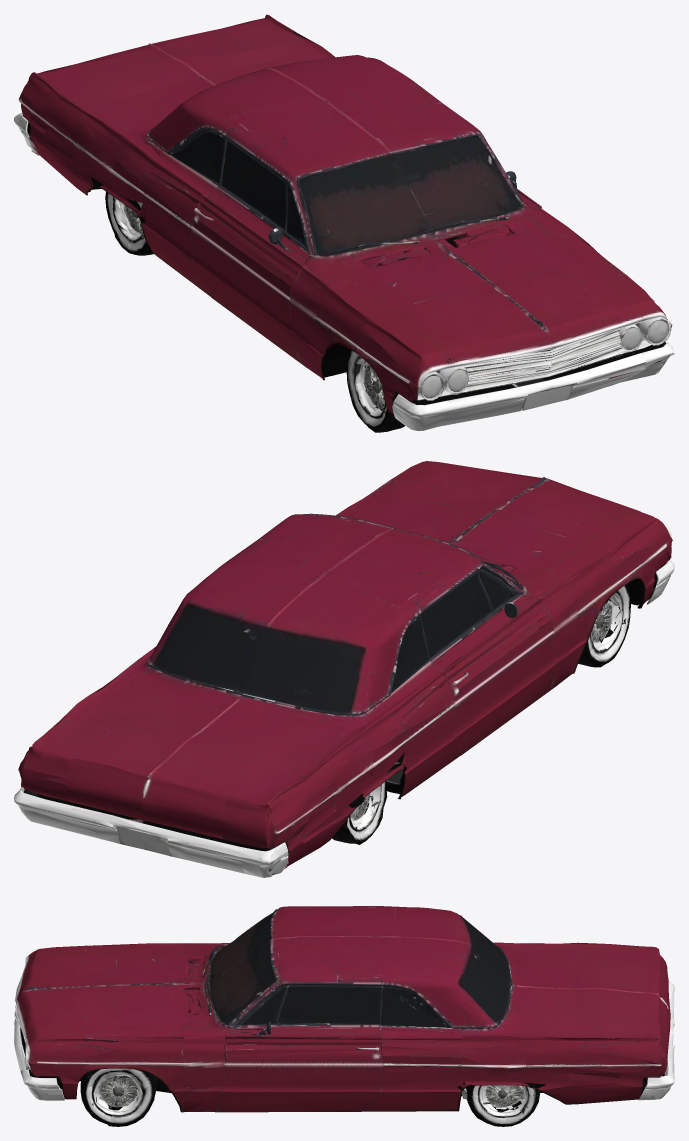
File: lowrider-v4.glb
3 views of the same model, one above another, from view 1: azimuth 30°, elevation 25°; view 2: azimuth 150°, elevation 25°; view 3: azimuth 270°, elevation 25° (orthographic). The views are drawn at different scales.
Visible parts, largest first — view 1: body, wheel_fl_mesh, wheel_rl_mesh; view 2: body, wheel_fl_mesh, wheel_rl_mesh; view 3: body, wheel_fr_mesh, wheel_rr_mesh.
Boxes of the visible parts, x1,y1,x2,y2 form: body: (14,14,674,430); wheel_fl_mesh: (346,349,404,432); wheel_rl_mesh: (105,192,153,255); body: (14,461,674,877); wheel_fl_mesh: (578,584,630,667); wheel_rl_mesh: (332,780,387,844); body: (14,906,674,1112); wheel_fr_mesh: (80,1068,157,1126); wheel_rr_mesh: (462,1085,540,1126).
Bounding box in the file's own units: 2.02 × 1.31 × 5.4.
1 material, 1 textured.
